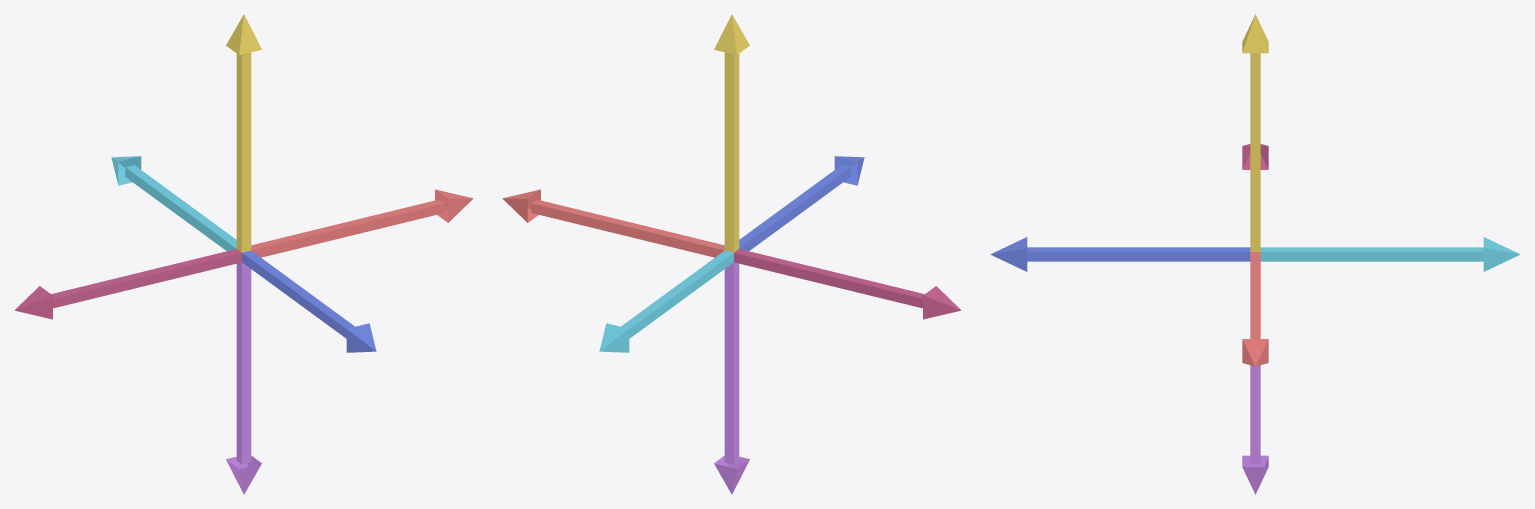
The model's file is axes-diagnostic.glb.
3 renders of one model, left to right at view 1: azimuth 30°, elevation 25°; view 2: azimuth 150°, elevation 25°; view 3: azimuth 270°, elevation 25°, orthographic.
Size of the model in its own units: 200 by 200 by 200.
